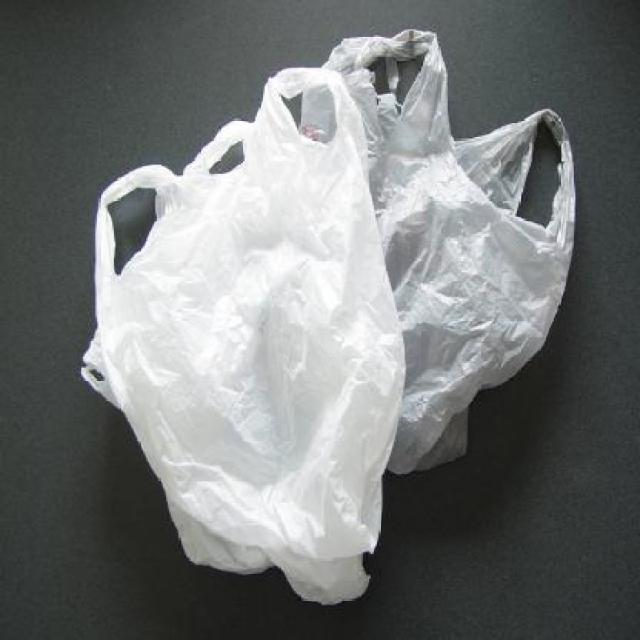plastic bag: (88, 57, 408, 626), (289, 24, 583, 494)
